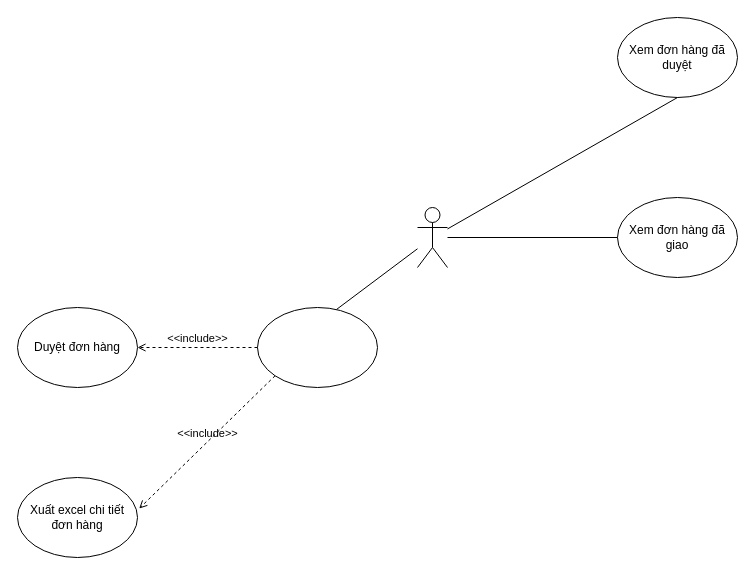
Some shapes in this 755 by 575 pixel diagram are drawn without their labels. The shapes that lost their labels are listed below. From the top down, each one's centre as x and y in pixels, then its label:
At point 432,237: "Thủ kho".
At point 317,347: "Xem đơn hàng chưa duyệt".
